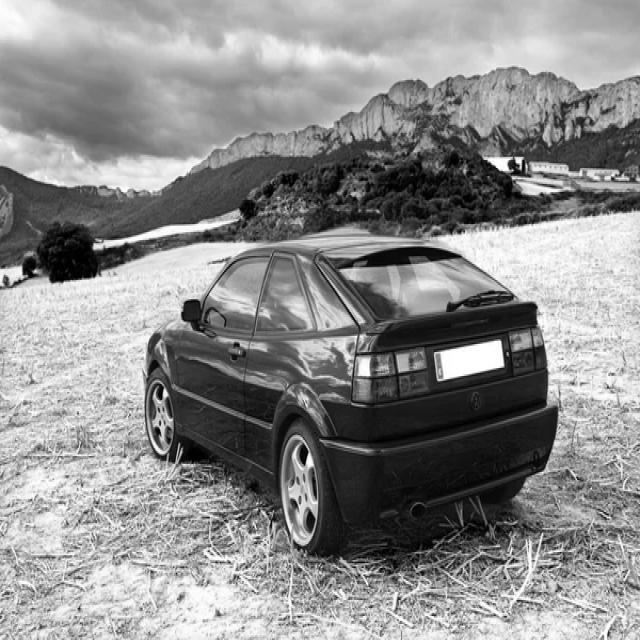Car: (143, 237, 559, 554)
